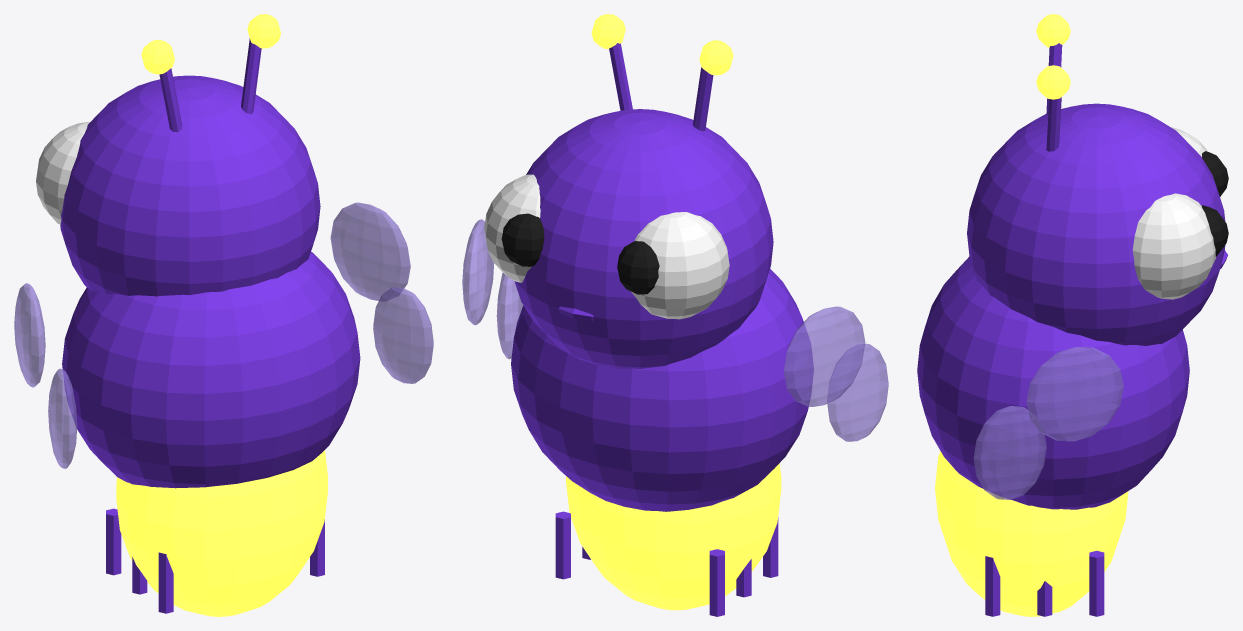
Rendered from alien_glimmi.fbx.
3 renders of one model, left to right at view 1: azimuth 30°, elevation 25°; view 2: azimuth 150°, elevation 25°; view 3: azimuth 270°, elevation 25°, orthographic. The views are drawn at different scales.
Parts seen in each view (by area): view 1: Glimmi_Body, Glimmi_Head, Glimmi_GlowBelly, Glimmi_Wing_R_0, Glimmi_Wing_R_1, Glimmi_Eye_L, Glimmi_Wing_L_0, Glimmi_Wing_L_1, Glimmi_Leg_L_0, Glimmi_Antenna_R, Glimmi_AntTip_L, Glimmi_AntTip_R (+2 smaller); view 2: Glimmi_Body, Glimmi_Head, Glimmi_GlowBelly, Glimmi_Eye_L, Glimmi_Wing_L_0, Glimmi_Wing_L_1, Glimmi_Eye_R, Glimmi_Wing_R_0, Glimmi_Pupil_R, Glimmi_Pupil_L, Glimmi_Wing_R_1, Glimmi_Leg_R_0 (+6 smaller); view 3: Glimmi_Body, Glimmi_Head, Glimmi_GlowBelly, Glimmi_Wing_R_0, Glimmi_Eye_R, Glimmi_Wing_R_1, Glimmi_Leg_R_0, Glimmi_AntTip_R, Glimmi_AntTip_L, Glimmi_Leg_R_2, Glimmi_Pupil_R, Glimmi_Antenna_R (+2 smaller).
Boxes of the visible parts, box(x1,y1,x2,y2) form: Glimmi_Body: box(62, 251, 360, 488); Glimmi_Head: box(60, 75, 320, 296); Glimmi_GlowBelly: box(116, 450, 327, 616); Glimmi_Wing_R_0: box(330, 202, 410, 300); Glimmi_Wing_R_1: box(373, 287, 433, 383); Glimmi_Eye_L: box(36, 122, 89, 224); Glimmi_Wing_L_0: box(14, 283, 45, 387); Glimmi_Wing_L_1: box(48, 368, 77, 468); Glimmi_Leg_L_0: box(106, 508, 121, 575); Glimmi_Antenna_R: box(241, 38, 261, 114); Glimmi_AntTip_L: box(141, 40, 174, 74); Glimmi_AntTip_R: box(247, 14, 280, 48); Glimmi_Body: box(511, 269, 813, 511); Glimmi_Head: box(514, 109, 773, 368); Glimmi_GlowBelly: box(566, 463, 781, 610); Glimmi_Eye_L: box(631, 212, 729, 319); Glimmi_Wing_L_0: box(783, 306, 865, 406); Glimmi_Wing_L_1: box(827, 343, 888, 441); Glimmi_Eye_R: box(484, 174, 540, 282); Glimmi_Wing_R_0: box(462, 219, 494, 325); Glimmi_Pupil_R: box(501, 213, 544, 266); Glimmi_Pupil_L: box(617, 240, 659, 294); Glimmi_Wing_R_1: box(496, 273, 523, 359); Glimmi_Leg_R_0: box(555, 511, 570, 579); Glimmi_Body: box(917, 256, 1189, 509); Glimmi_Head: box(967, 103, 1225, 345); Glimmi_GlowBelly: box(935, 451, 1128, 616); Glimmi_Wing_R_0: box(1026, 347, 1123, 441); Glimmi_Eye_R: box(1132, 193, 1215, 299); Glimmi_Wing_R_1: box(973, 406, 1046, 499); Glimmi_Leg_R_0: box(1089, 550, 1104, 616); Glimmi_AntTip_R: box(1036, 65, 1070, 99); Glimmi_AntTip_L: box(1036, 14, 1070, 47); Glimmi_Leg_R_2: box(985, 556, 1000, 616); Glimmi_Pupil_R: box(1201, 205, 1228, 256); Glimmi_Antenna_R: box(1046, 97, 1061, 151).
Bounding box in the file's own units: 0.9993 × 1.45 × 0.72.
